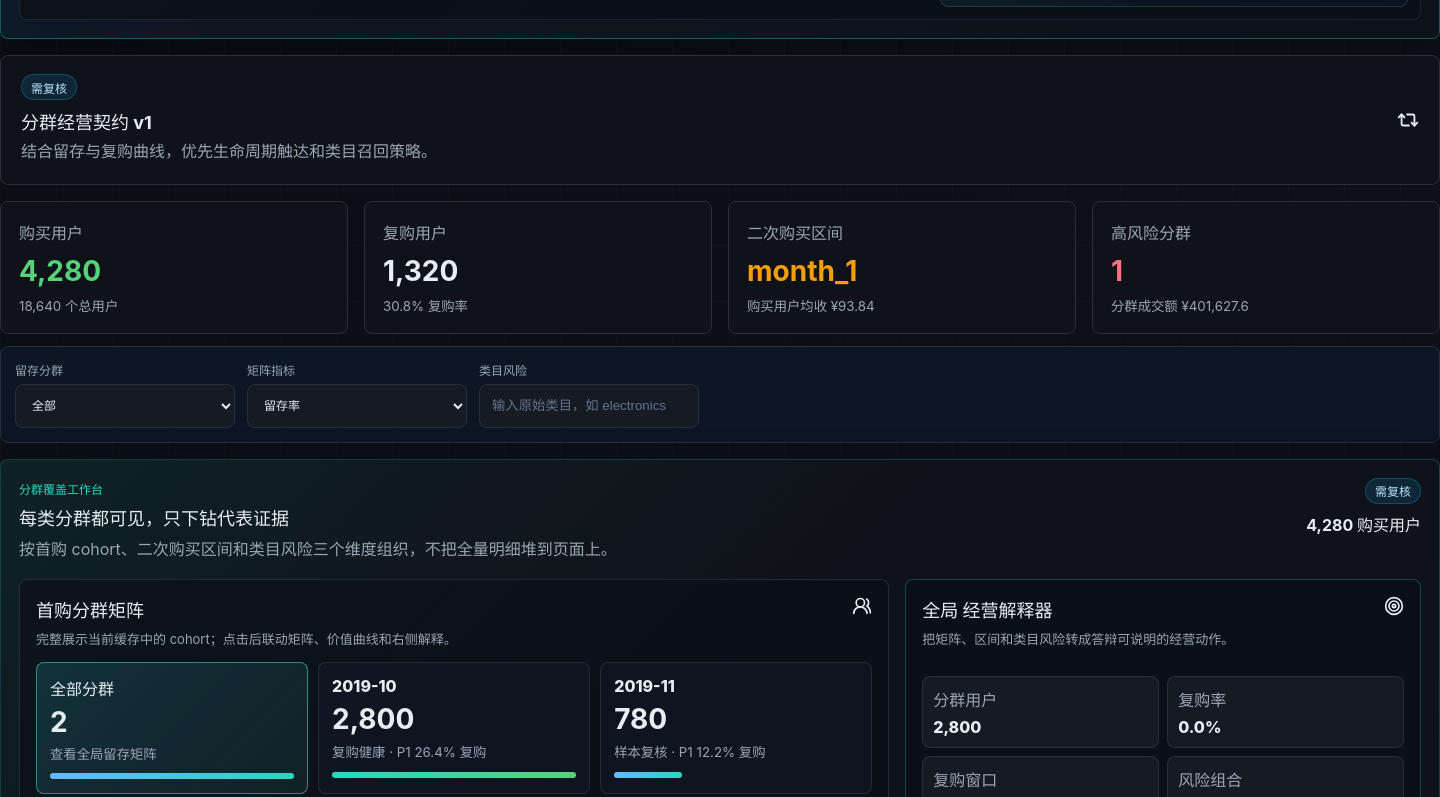
Test: CohortsPage › lets operators switch the retention metric and filter category risk
The image size is (1440, 797).
(page scrolled)
Select "成交额" in the dropdown labelled "矩阵指标" at (357, 406), box [247,384,467,428]
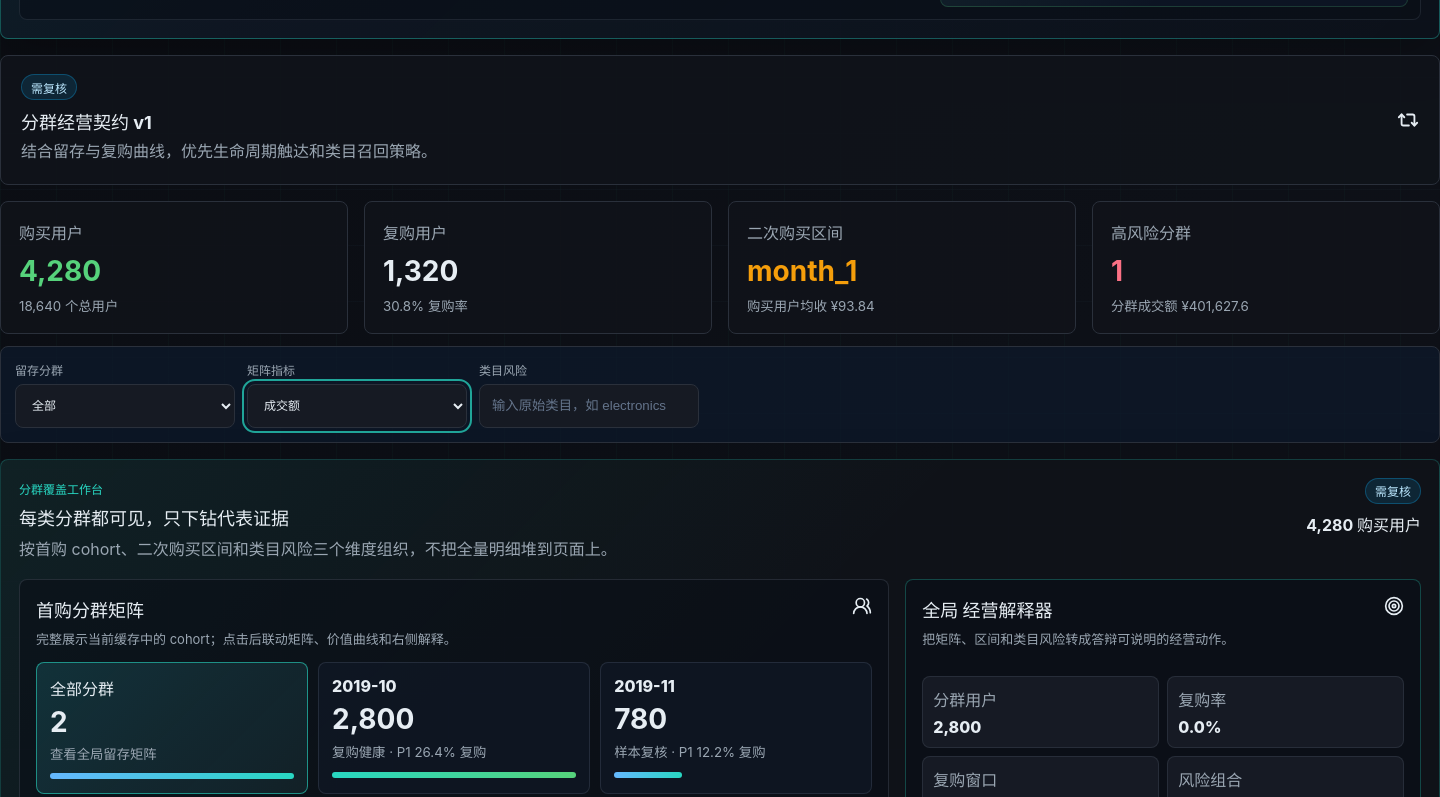
Type "apparel" into the field labelled "类目风险" at (589, 406), box [479,384,699,428]
(page scrolled)
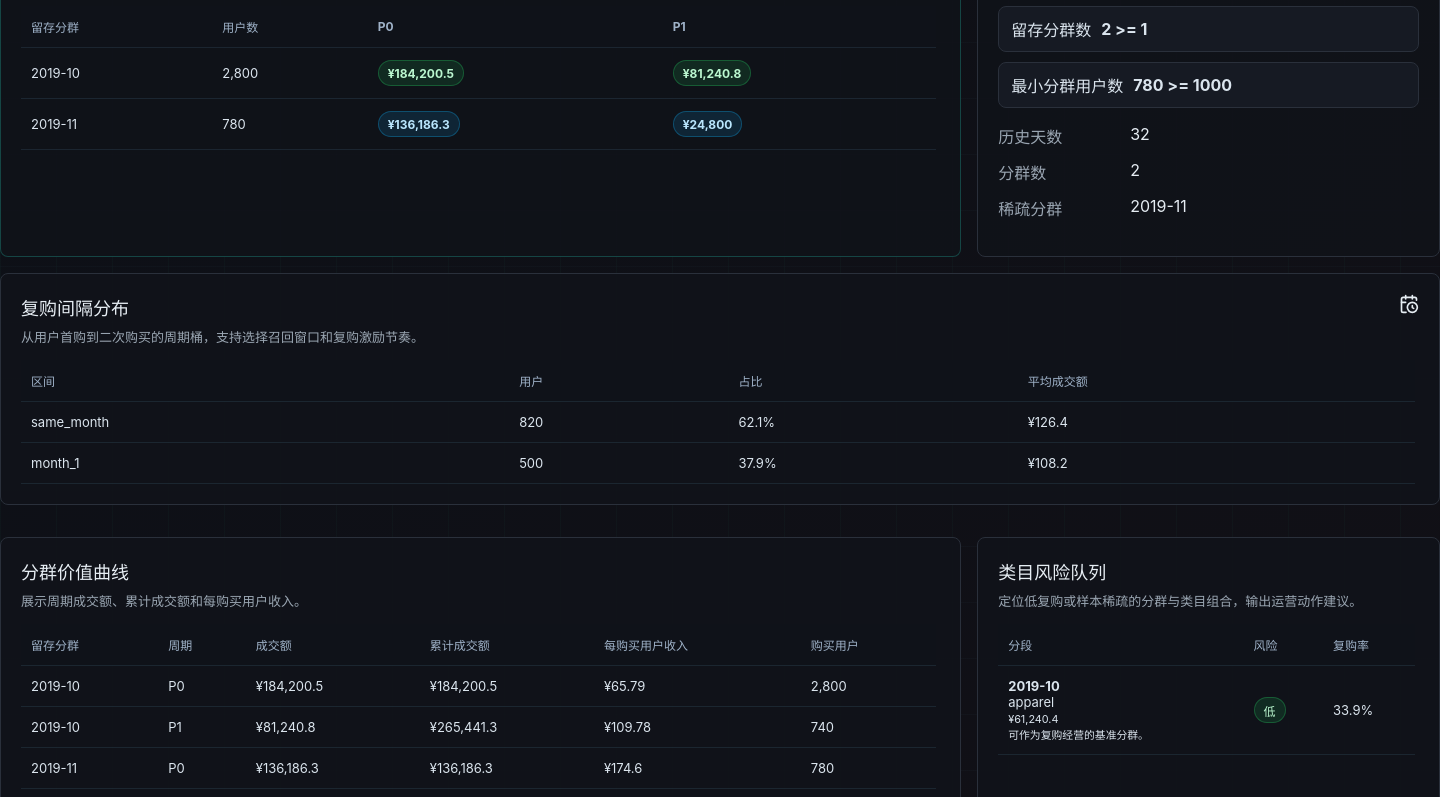
Expected: the text "可作为复购经营的基准分群。" is shown, [1008,729,1149,742]
